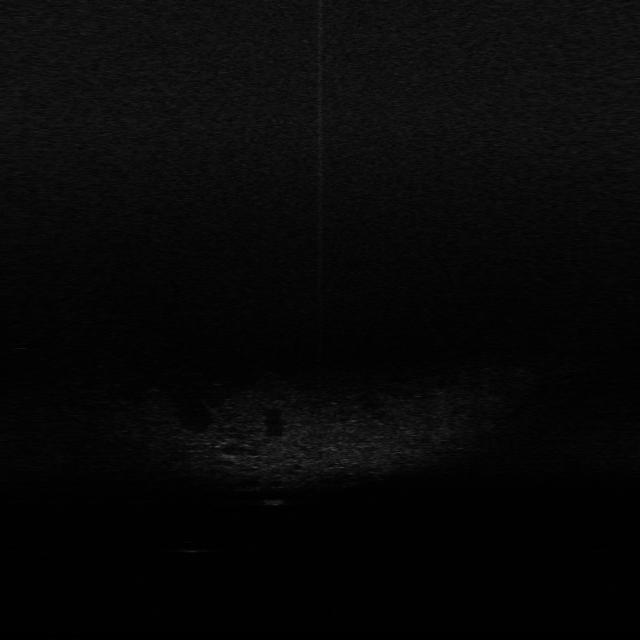ball: (171, 537, 218, 555)
cube: (261, 496, 287, 507)
